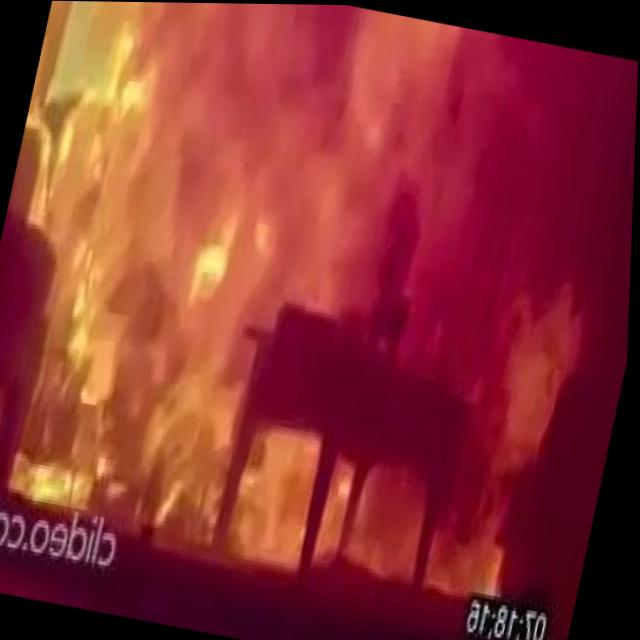fire: (9, 172, 287, 538), (183, 2, 438, 247), (7, 0, 225, 243), (458, 260, 583, 474), (230, 427, 327, 561), (350, 467, 433, 582), (425, 514, 528, 601), (313, 453, 361, 572)
